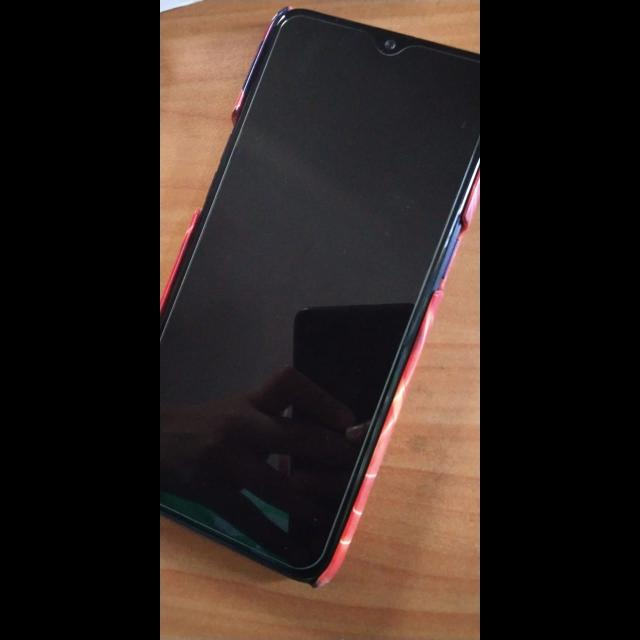Smartphone: (165, 4, 480, 604)
